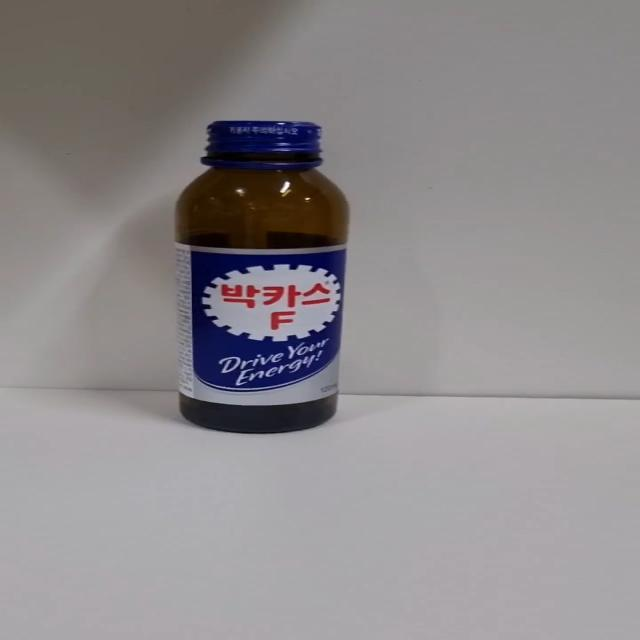Glass: (172, 121, 351, 436)
